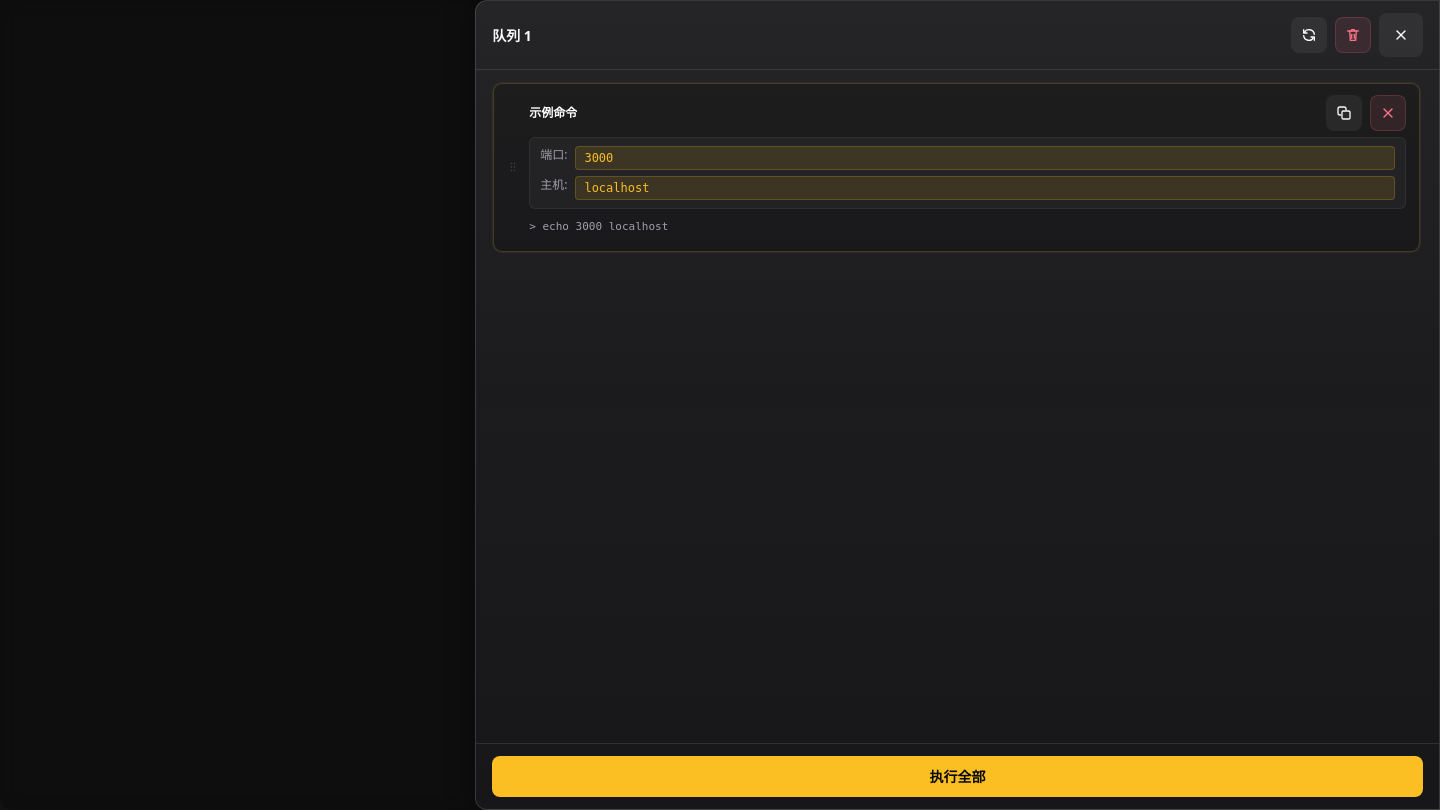
Test: LauncherFlowPanel 内联编辑 › 点击 value 进入编辑态，显示输入框
Click the button with class "flow-card__param-value" showing "3000" at (599,158), box top-left (575, 146), bottom-right (1395, 170)
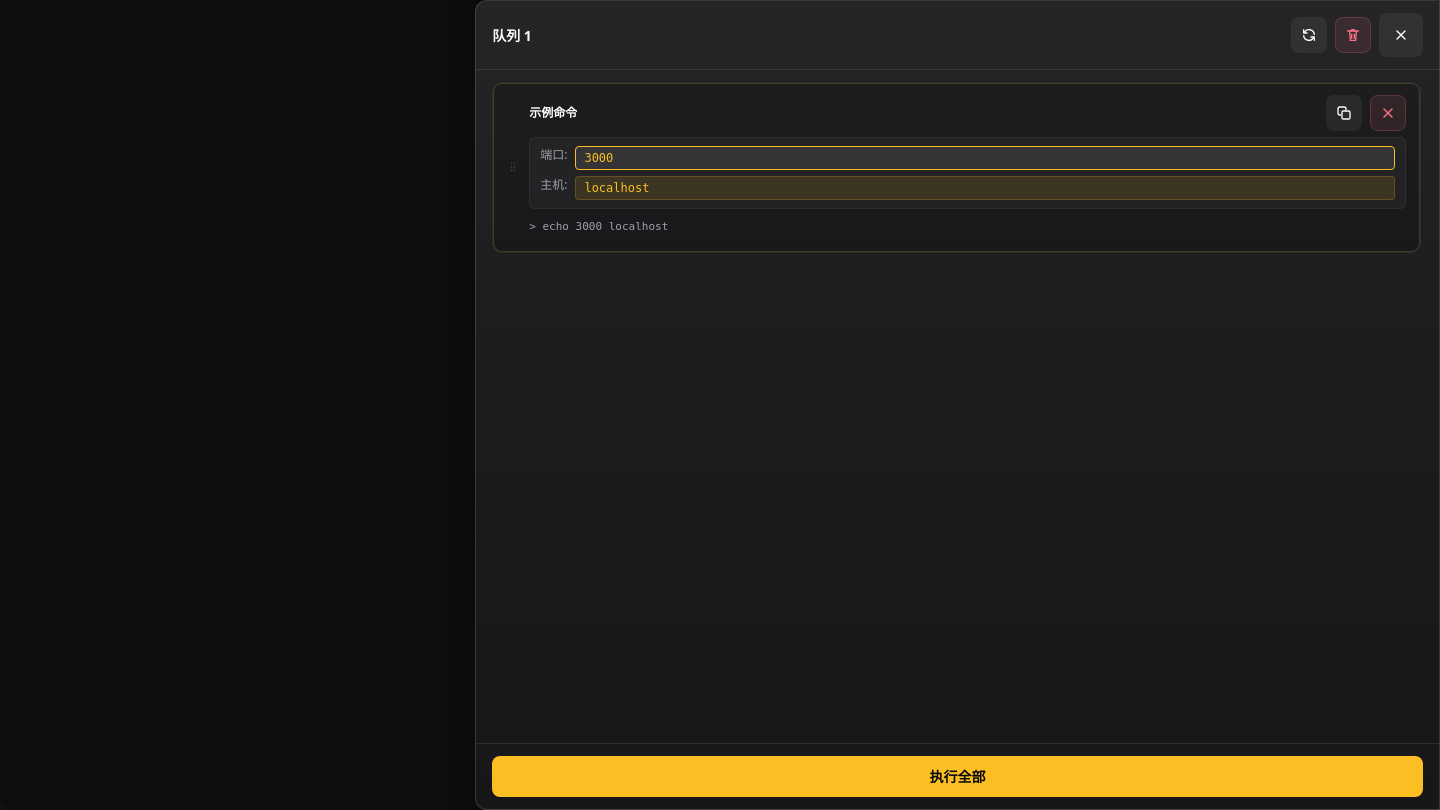
Expected: the field with class "flow-card__param-input" holds "3000", top-left (575, 146), bottom-right (1395, 170)
